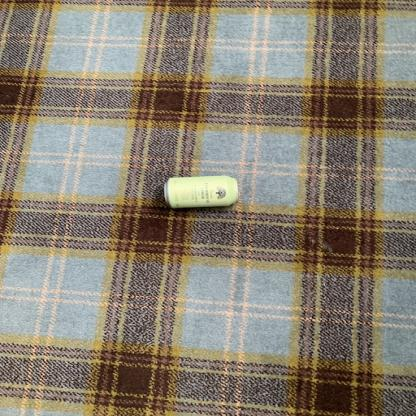trash: (161, 176, 239, 208)
